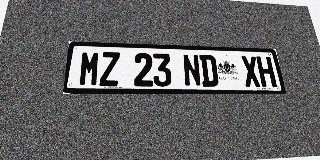2: (134, 53, 153, 86)
3: (153, 53, 172, 87)
D: (199, 55, 219, 87)
H: (256, 56, 277, 87)
M: (78, 51, 101, 86)
N: (182, 54, 202, 87)
X: (240, 56, 261, 87)
Z: (99, 52, 120, 86)
